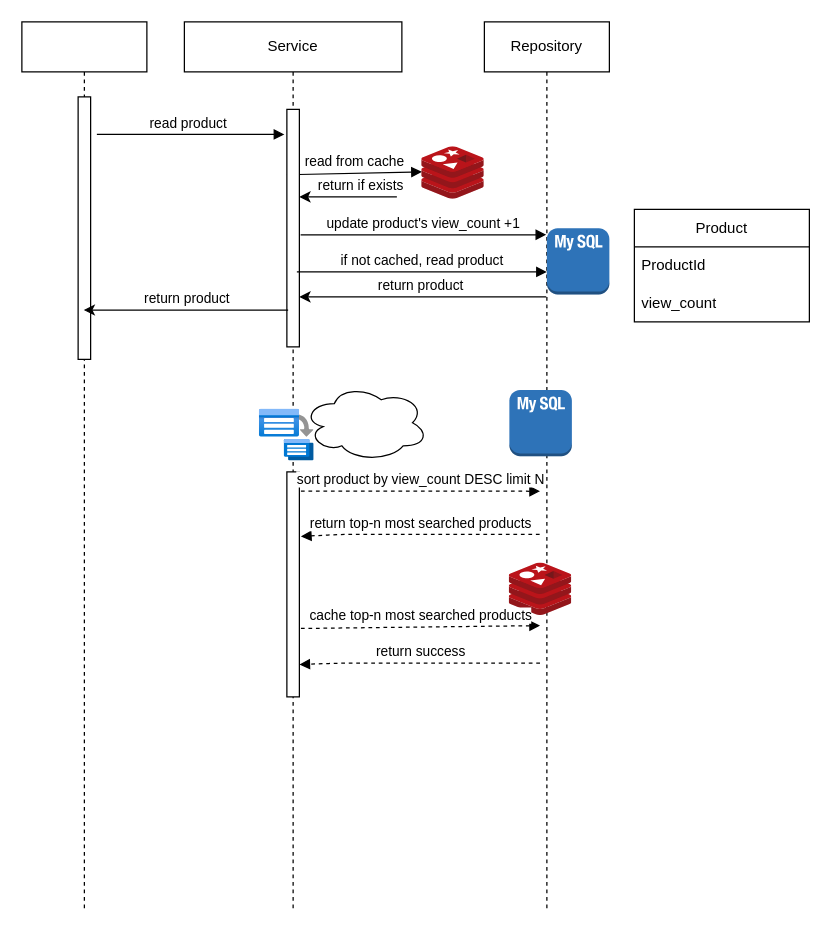
Image size: 831x931. Some labels were removed from this diagram. Here are the shapes that lost their labels. From the top down, the box of each, then its label:
(302, 383, 428, 461): batch every 20m
(21, 21, 147, 909): API
